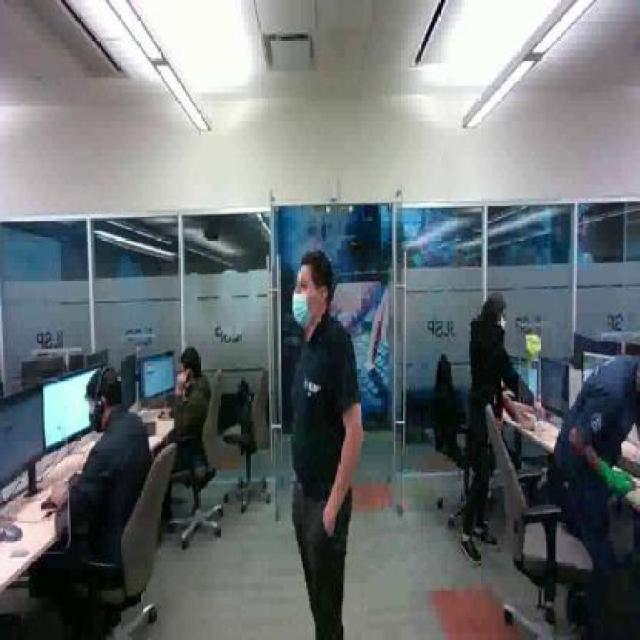sem_oculos: (294, 275, 329, 299), (85, 396, 118, 415), (180, 364, 201, 377), (496, 307, 508, 318)
